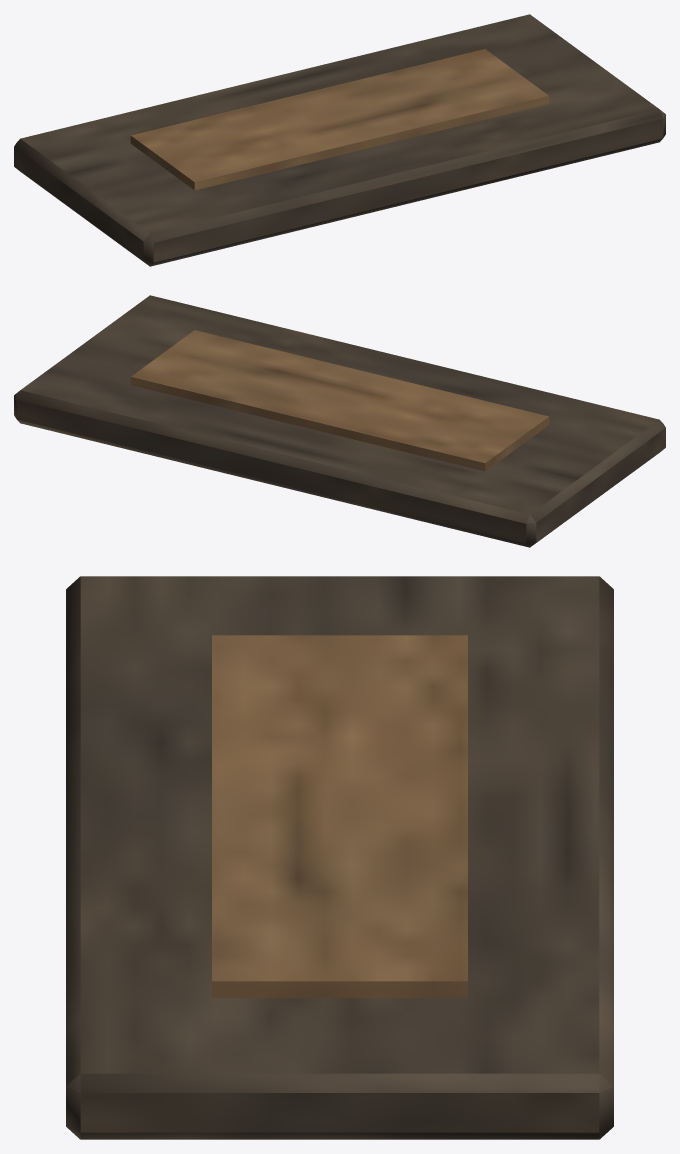
Rendered from SM_SupplyCrate_Small02_Lid.fbx.
The picture shows the model from 3 angles, top to bottom: view 1: azimuth 30°, elevation 25°; view 2: azimuth 150°, elevation 25°; view 3: azimuth 270°, elevation 25°; orthographic projection. The views are drawn at different scales.
Parts seen in each view (by area): view 1: SM_SupplyCrate_Small02_Lid; view 2: SM_SupplyCrate_Small02_Lid; view 3: SM_SupplyCrate_Small02_Lid.
Part boxes in pixels (bbox=[...]): SM_SupplyCrate_Small02_Lid: bbox=[14, 14, 665, 266]; SM_SupplyCrate_Small02_Lid: bbox=[14, 295, 665, 547]; SM_SupplyCrate_Small02_Lid: bbox=[66, 576, 613, 1139].
Bounding box in the file's own units: 3.3 × 0.25 × 1.5.
Materials: 1 (1 with a texture image).
